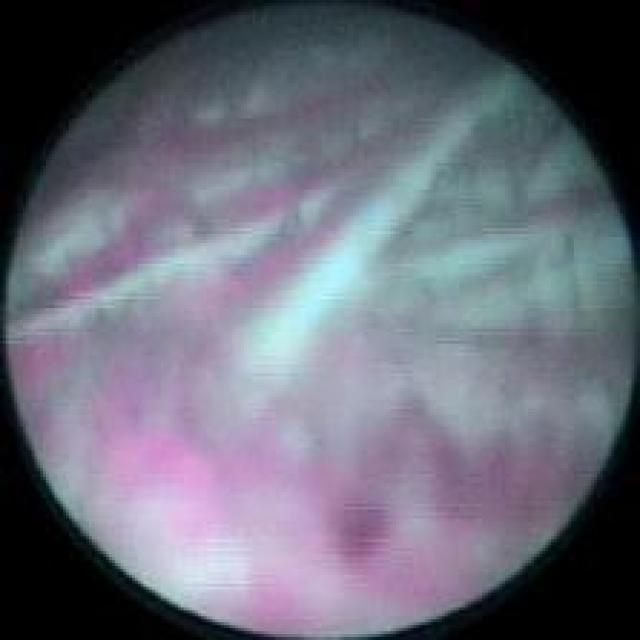blur: (9, 7, 634, 626)
